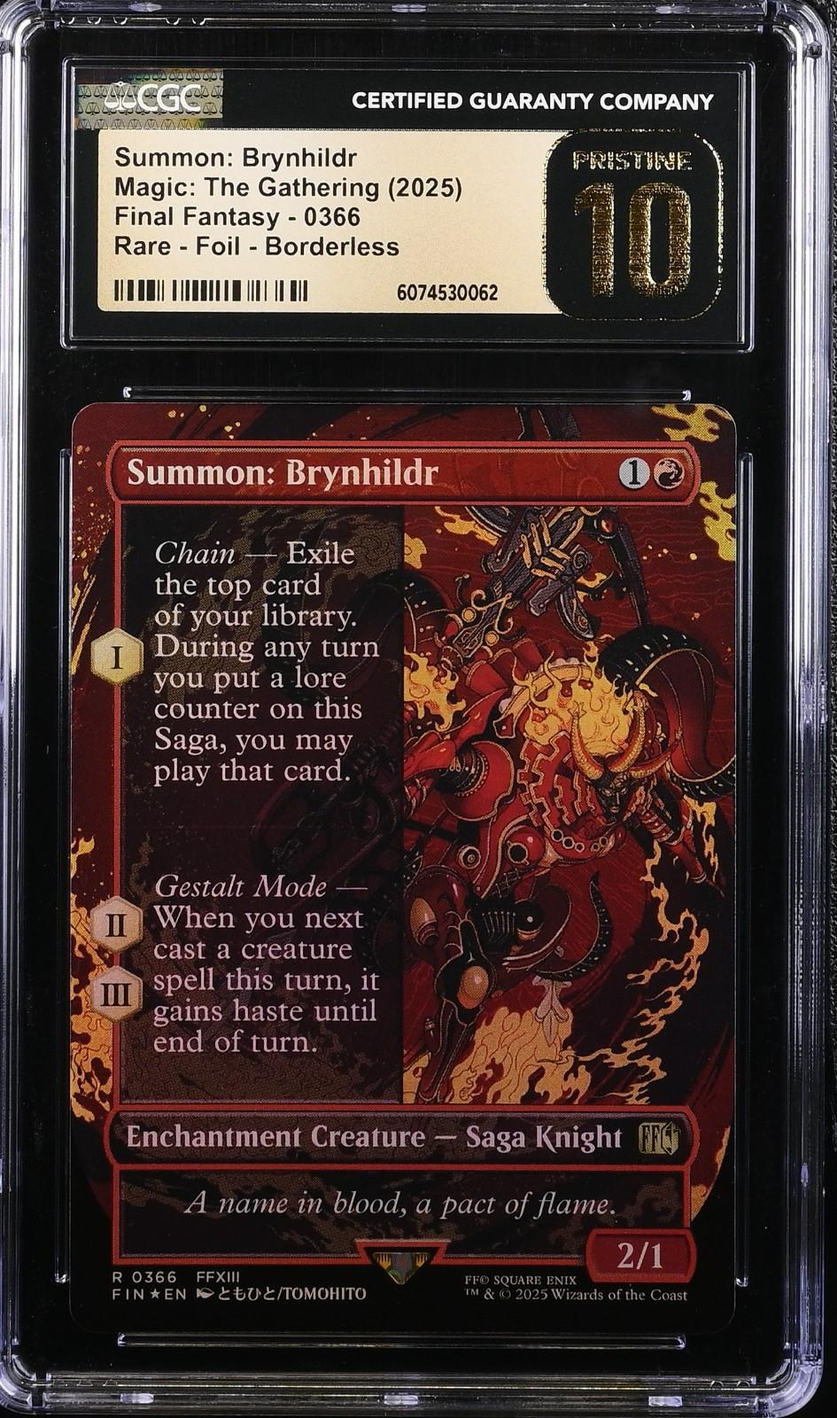card-2UtV: (69, 402, 737, 1334)
